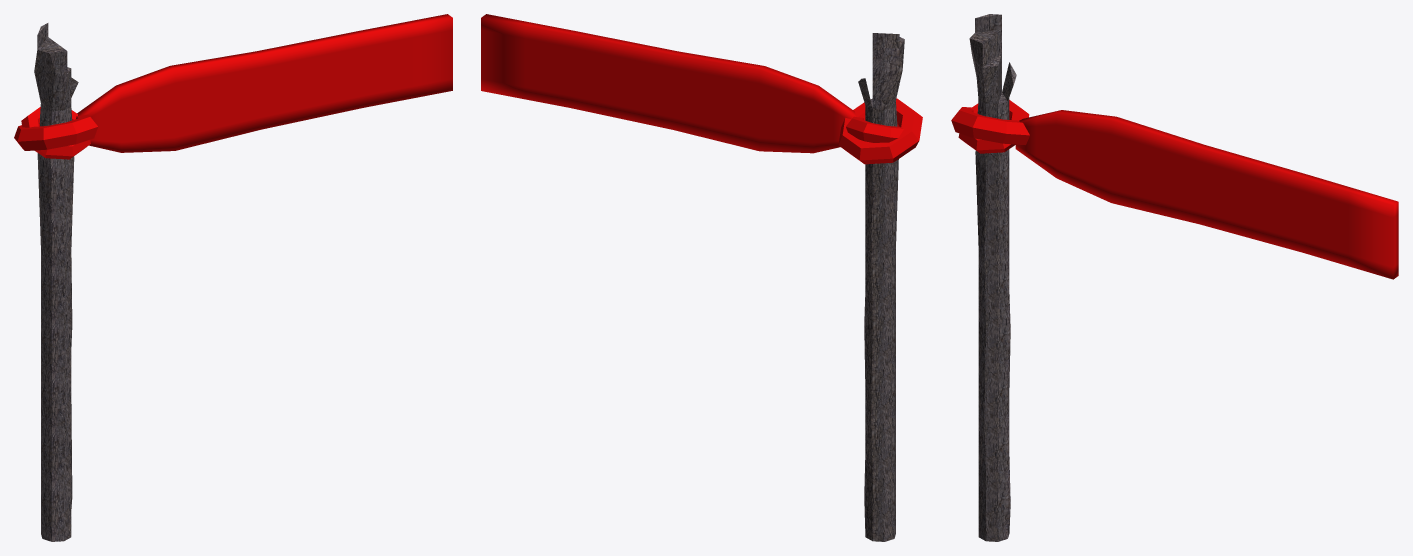
File: persianweathersystemanimation.fbx
The picture shows the model from 3 angles, left to right: view 1: azimuth 30°, elevation 25°; view 2: azimuth 150°, elevation 25°; view 3: azimuth 330°, elevation 25°; orthographic projection.
Parts seen in each view (by area): view 1: flag, pole; view 2: flag, pole; view 3: flag, pole.
Part boxes in pixels (x1=…): flag: x1=77, y1=14, x2=452, y2=152; pole: x1=14, y1=23, x2=97, y2=541; flag: x1=481, y1=14, x2=855, y2=153; pole: x1=838, y1=33, x2=922, y2=541; flag: x1=1015, y1=110, x2=1398, y2=279; pole: x1=951, y1=14, x2=1029, y2=541.
Bounding box in the file's own units: 951 × 1062 × 159.
